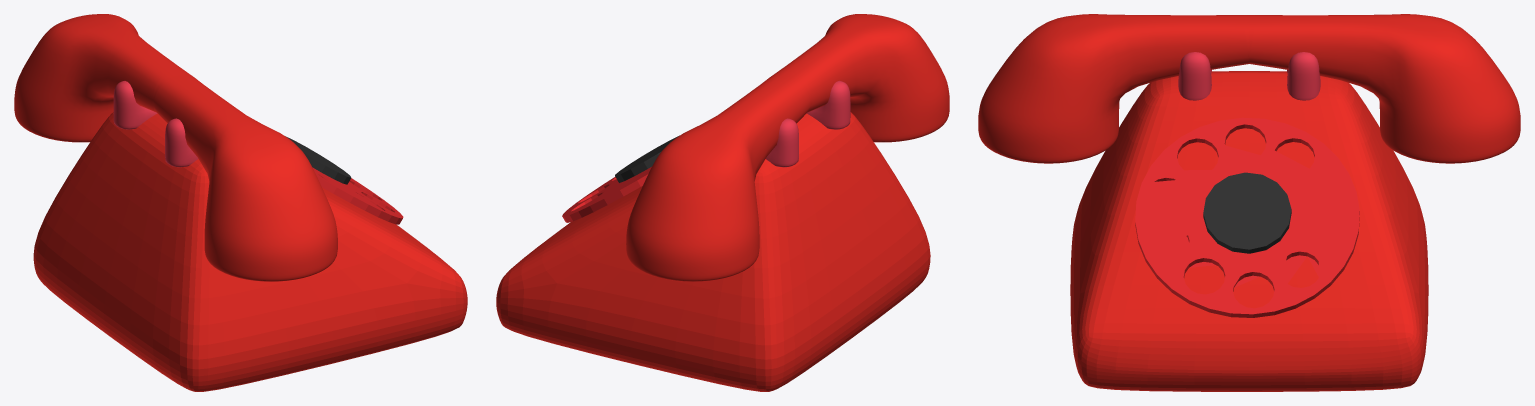
File: Telephone1.fbx
3 renders of one model, left to right at view 1: azimuth 30°, elevation 25°; view 2: azimuth 150°, elevation 25°; view 3: azimuth 270°, elevation 25°, orthographic. The views are drawn at different scales.
Visible parts, largest first — view 1: Plane, Circle, Plane.001, Circle.001, Cylinder; view 2: Plane, Circle, Plane.001, Circle.001, Cylinder; view 3: Plane, Circle, Circle.001, Cylinder, Plane.001.
Part boxes in pixels (x1,y1,x2,y2): Plane: (33,112,467,391); Circle: (14,14,337,281); Plane.001: (113,81,198,167); Circle.001: (312,167,403,224); Cylinder: (285,136,351,184); Plane: (496,112,930,391); Circle: (626,14,949,281); Plane.001: (765,80,850,167); Circle.001: (562,167,651,222); Cylinder: (615,135,679,182); Plane: (1070,71,1428,391); Circle: (978,14,1520,163); Circle.001: (1135,117,1359,317); Cylinder: (1203,172,1291,253); Plane.001: (1178,52,1320,100).
Bounding box in the file's own units: 105 × 88.05 × 159.
